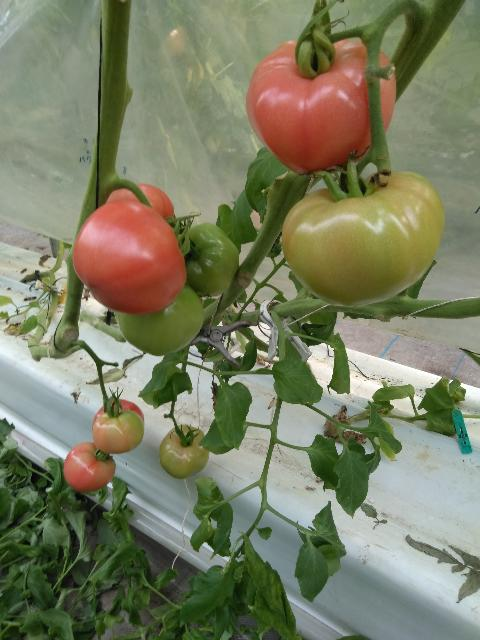b_fully_ripened: (246, 37, 396, 177), (73, 201, 187, 315), (92, 399, 144, 432)
b_green: (112, 282, 204, 356), (179, 223, 239, 297)
b_half_ripened: (281, 170, 446, 307), (106, 183, 177, 227), (159, 425, 210, 479), (64, 441, 116, 492), (93, 409, 144, 454)
